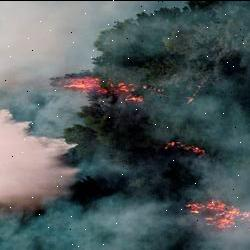fire: (45, 61, 205, 164), (183, 192, 250, 238)
